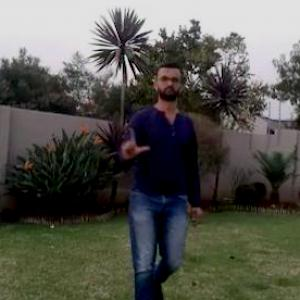land_hand: (118, 124, 149, 161)
